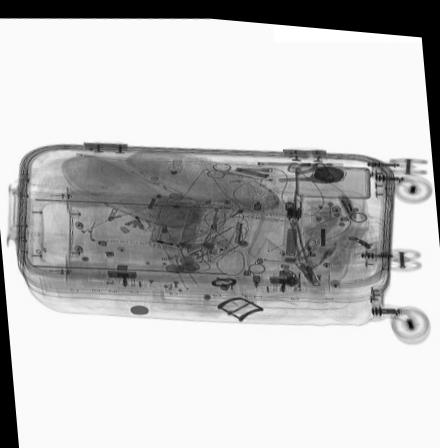Lighter: (253, 253, 294, 264)
